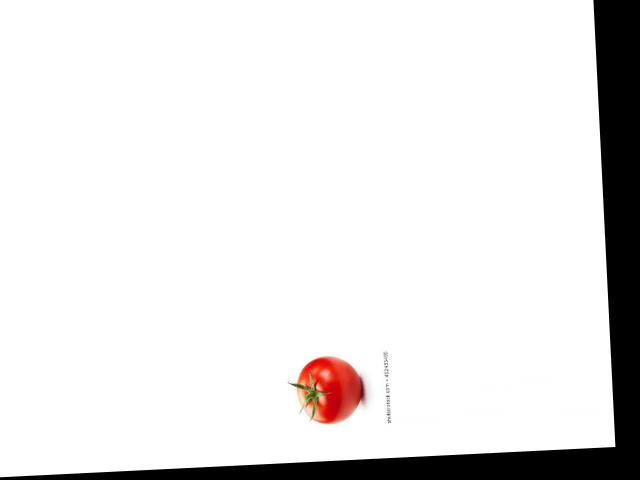tomato: (295, 355, 363, 424)
